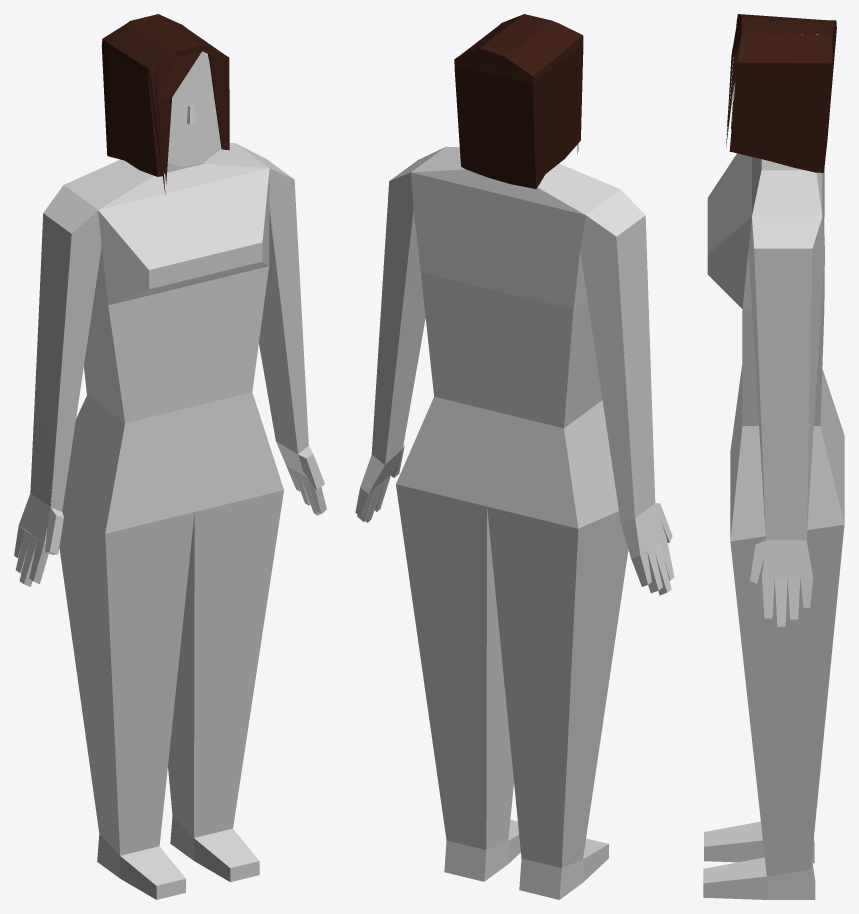
File: Passenger.fbx
The picture shows the model from 3 angles, left to right: view 1: azimuth 30°, elevation 25°; view 2: azimuth 150°, elevation 25°; view 3: azimuth 270°, elevation 25°; orthographic projection. The views are drawn at different scales.
Visible parts, largest first — view 1: Cube, Cube.002; view 2: Cube, Cube.002; view 3: Cube, Cube.002.
Boxes of the visible parts, x1=… form: Cube: x1=14, y1=51, x2=326, y2=899; Cube.002: x1=101, y1=14, x2=229, y2=195; Cube: x1=355, y1=146, x2=674, y2=899; Cube.002: x1=454, y1=14, x2=583, y2=188; Cube: x1=703, y1=82, x2=844, y2=899; Cube.002: x1=726, y1=14, x2=836, y2=172.
Size of the model in its own units: 349 by 917 by 139.
